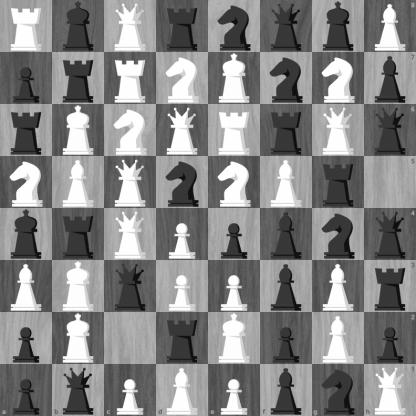B: (156, 364, 209, 416), (364, 0, 416, 52), (1, 261, 52, 312), (53, 157, 104, 208), (261, 157, 312, 208), (313, 261, 364, 312), (313, 313, 364, 364)
K: (53, 105, 104, 156), (53, 261, 104, 312), (53, 313, 104, 364), (209, 53, 260, 104), (209, 313, 260, 364)
N: (1, 157, 52, 208), (105, 105, 156, 156), (157, 53, 208, 104), (209, 157, 260, 208), (313, 53, 364, 104)
P: (104, 364, 156, 416), (209, 364, 260, 416), (157, 209, 208, 260), (157, 261, 208, 312), (209, 261, 260, 312)
Q: (364, 364, 416, 416), (105, 1, 156, 52), (105, 157, 156, 208), (105, 209, 156, 260), (157, 105, 208, 156), (313, 105, 364, 156)
R: (1, 1, 52, 52), (105, 53, 156, 104), (209, 105, 260, 156)
b: (260, 364, 312, 416), (364, 52, 416, 104), (261, 209, 312, 260), (261, 261, 312, 312)
board: (0, 0, 415, 415)
k: (1, 209, 52, 260), (53, 1, 104, 52), (313, 1, 364, 52)
n: (312, 364, 364, 416), (157, 157, 208, 208), (209, 1, 260, 52), (261, 53, 312, 104), (313, 209, 364, 260)
p: (0, 364, 52, 416), (364, 312, 416, 364), (1, 53, 52, 104), (1, 313, 52, 364), (209, 209, 260, 260), (261, 313, 312, 364)
q: (52, 364, 104, 416), (364, 104, 416, 156), (364, 209, 416, 260), (105, 261, 156, 312), (261, 1, 312, 52)
r: (364, 260, 416, 312), (1, 105, 52, 156), (53, 53, 104, 104), (53, 209, 104, 260), (157, 1, 208, 52), (157, 313, 208, 364), (261, 105, 312, 156), (313, 157, 364, 208)
